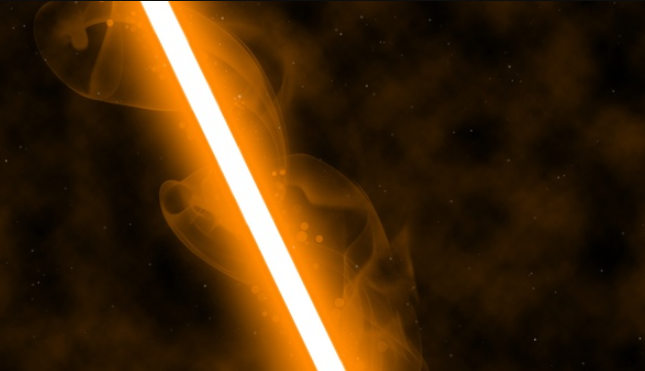lightsaber: (117, 0, 394, 371)
